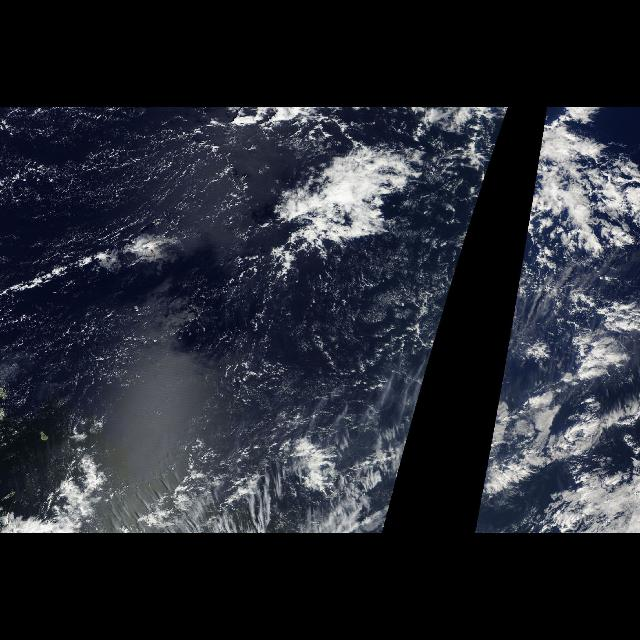Fish: (264, 111, 510, 272), (519, 111, 639, 272), (210, 423, 416, 512), (478, 423, 640, 512)
Sugar: (4, 112, 248, 392), (308, 262, 410, 346)
